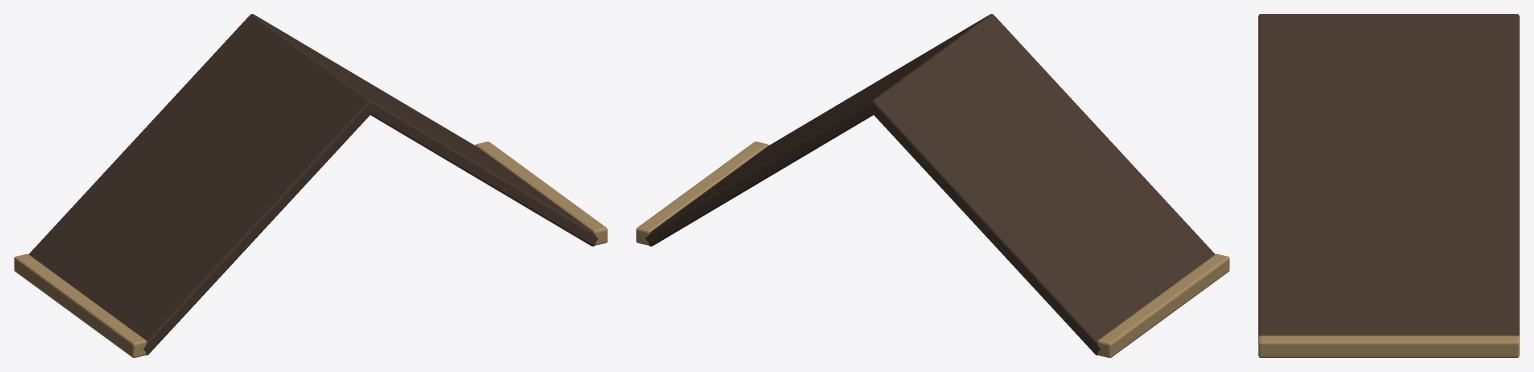
The model's file is roof_gable_4x2m__structure.glb.
3 renders of one model, left to right at view 1: azimuth 30°, elevation 25°; view 2: azimuth 150°, elevation 25°; view 3: azimuth 270°, elevation 25°, orthographic. The views are drawn at different scales.
Visible parts, largest first — view 1: roof_gable_4x2m__structure__mesh_00; view 2: roof_gable_4x2m__structure__mesh_00; view 3: roof_gable_4x2m__structure__mesh_00.
Boxes of the visible parts, x1,y1,x2,y2 form: roof_gable_4x2m__structure__mesh_00: [14, 14, 607, 357]; roof_gable_4x2m__structure__mesh_00: [636, 14, 1229, 357]; roof_gable_4x2m__structure__mesh_00: [1258, 14, 1519, 357].
Size of the model in its own units: 4.58 by 1.85 by 2.
